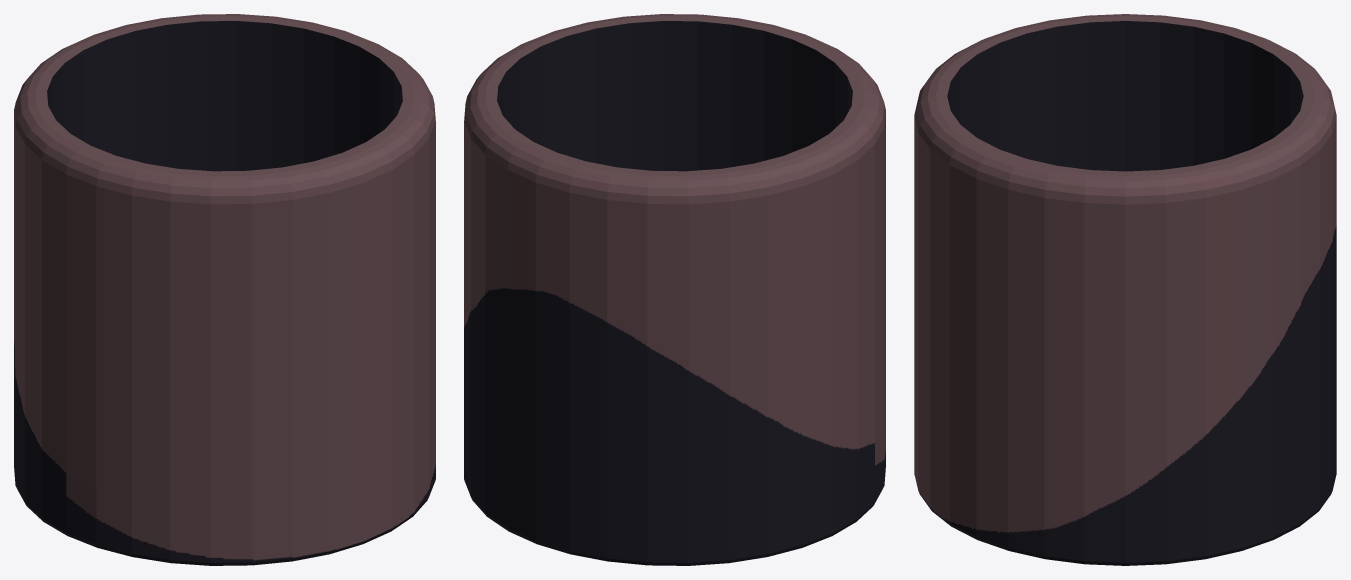
Rendered from office trash.fbx.
3 renders of one model, left to right at view 1: azimuth 30°, elevation 25°; view 2: azimuth 150°, elevation 25°; view 3: azimuth 270°, elevation 25°, orthographic.
Visible parts, largest first — view 1: office trash; view 2: office trash; view 3: office trash.
Part boxes in pixels (x1,y1,x2,y2): office trash: (14, 14, 435, 565); office trash: (464, 14, 885, 565); office trash: (914, 14, 1336, 565).
Size of the model in its own units: 98.65 by 98.65 by 98.65.
Materials: 1 (1 with a texture image).
